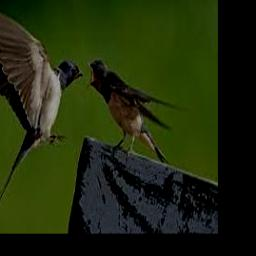Swallow: (0, 8, 83, 219), (87, 59, 184, 164)
